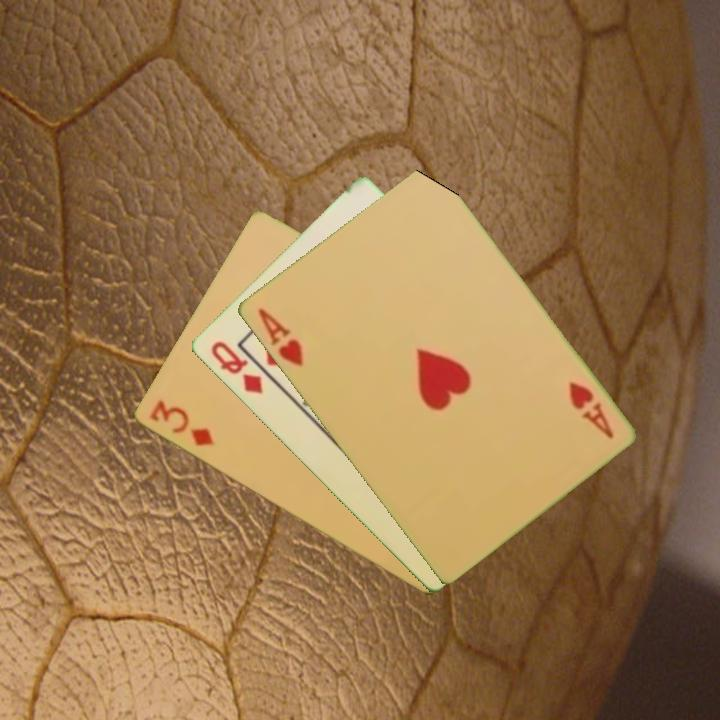3d: (145, 396, 216, 450)
Ah: (253, 304, 306, 370), (564, 378, 617, 442)
Qd: (207, 337, 266, 398)
